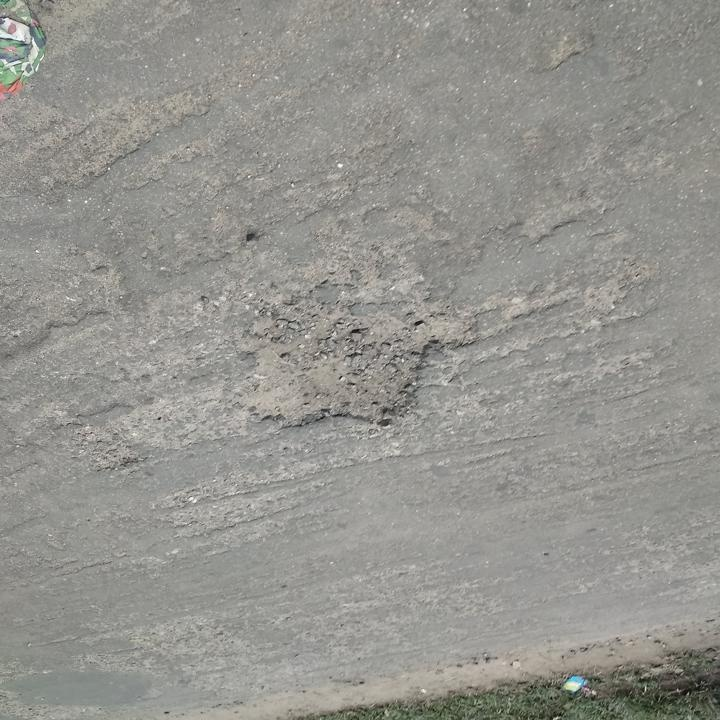pothole: (232, 299, 472, 438)
